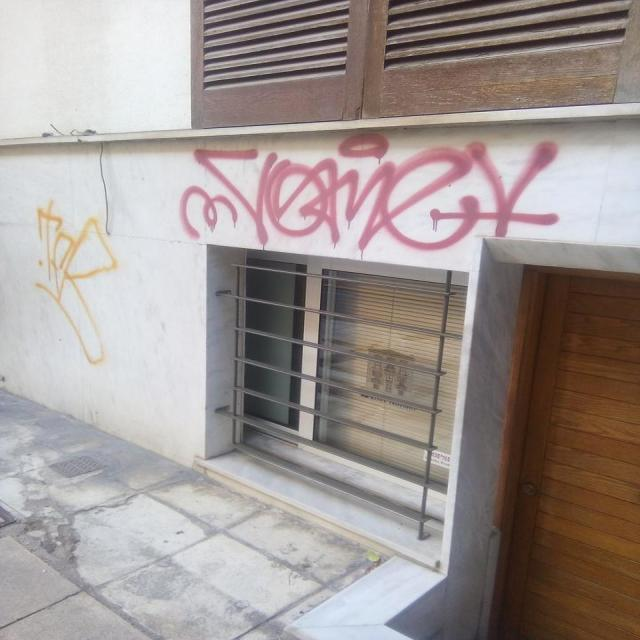nonspitting: (175, 134, 562, 250), (34, 200, 122, 364)
